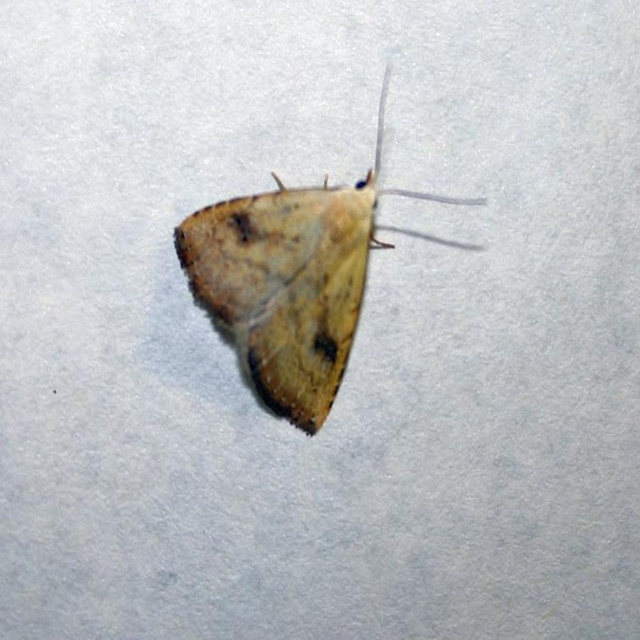Moths and butterflies: (170, 60, 491, 439)
